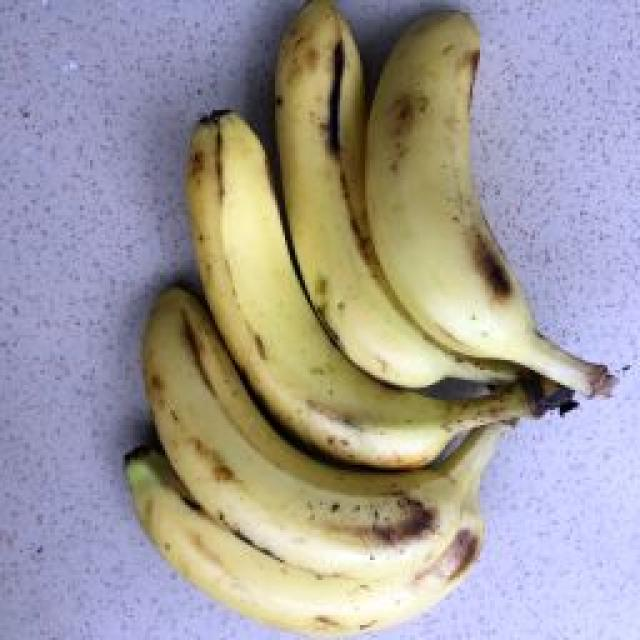banana: (147, 65, 617, 548)
